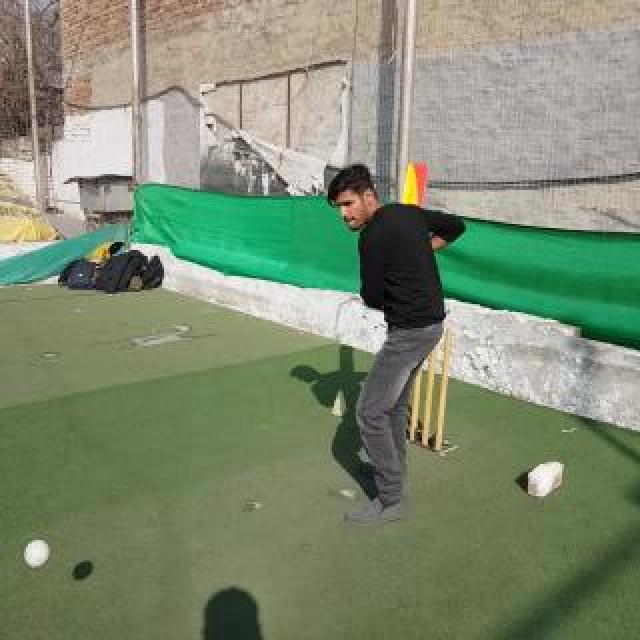ball: (23, 539, 49, 567)
bat: (399, 161, 433, 207)
